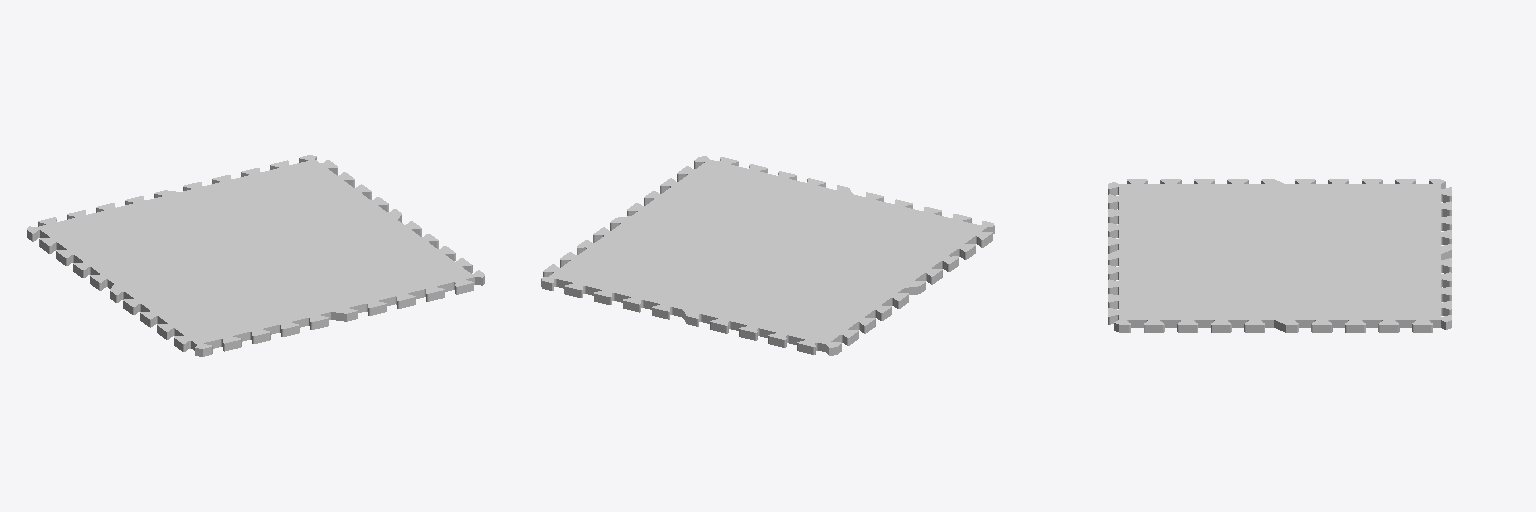
Rendered from VL-FIELD-TILE_Gray.obj.
3 renders of one model, left to right at view 1: azimuth 30°, elevation 25°; view 2: azimuth 150°, elevation 25°; view 3: azimuth 270°, elevation 25°, orthographic.
Visible parts, largest first — view 1: Solid1; view 2: Solid1; view 3: Solid1.
Part boxes in pixels (left/top/right/bottom): Solid1: left=27, top=155, right=484, bottom=356; Solid1: left=541, top=156, right=994, bottom=355; Solid1: left=1108, top=179, right=1451, bottom=332.
Bounding box in the file's own units: 619 × 15.88 × 619.